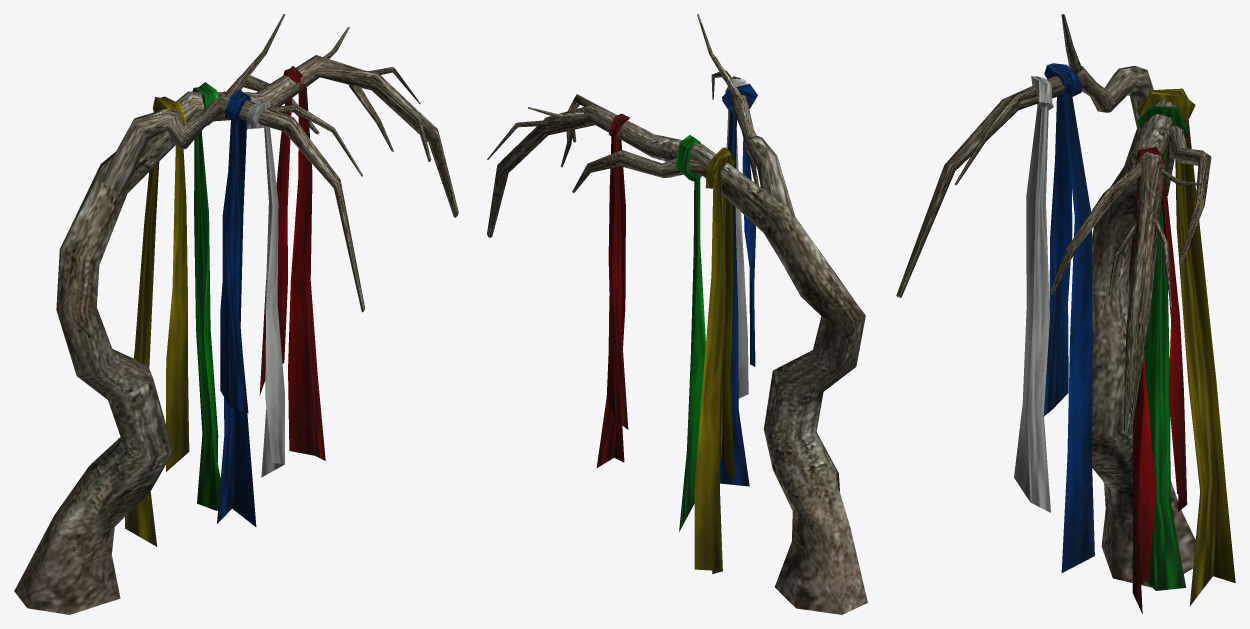
Rendered from treestatue_08.fbx.
The picture shows the model from 3 angles, left to right: view 1: azimuth 30°, elevation 25°; view 2: azimuth 150°, elevation 25°; view 3: azimuth 270°, elevation 25°; orthographic projection. The views are drawn at different scales.
Parts seen in each view (by area): view 1: Object38; view 2: Object38; view 3: Object38.
Boxes of the visible parts, box(x1,y1,x2,y2) form: Object38: box(14, 14, 458, 614); Object38: box(487, 14, 867, 614); Object38: box(896, 14, 1235, 614).
Size of the model in its own units: 15.23 by 19.46 by 9.29.
